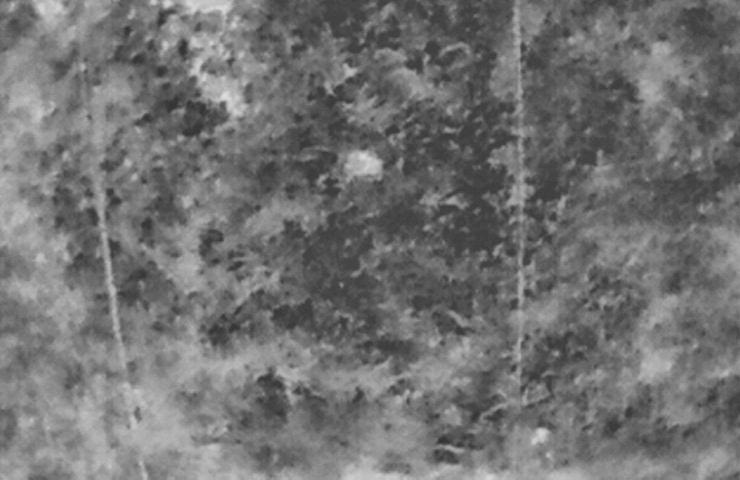landmines: (335, 148, 390, 184)
